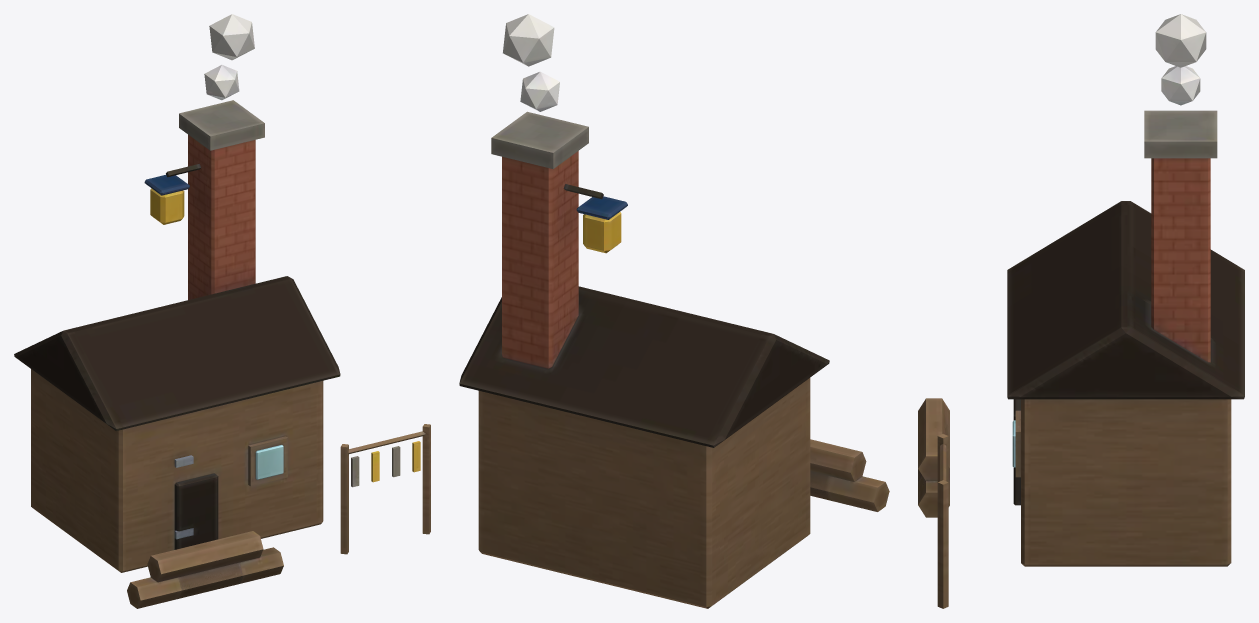
The model's file is smokehouse-3-age10.glb.
3 renders of one model, left to right at view 1: azimuth 30°, elevation 25°; view 2: azimuth 150°, elevation 25°; view 3: azimuth 270°, elevation 25°, orthographic. The views are drawn at different scales.
Parts seen in each view (by area): view 1: smokehouse-3-age10; view 2: smokehouse-3-age10; view 3: smokehouse-3-age10.
Boxes of the visible parts, x1=… form: smokehouse-3-age10: x1=14, y1=14, x2=430, y2=608; smokehouse-3-age10: x1=459, y1=14, x2=889, y2=608; smokehouse-3-age10: x1=918, y1=14, x2=1244, y2=608.
Size of the model in its own units: 0.882 by 1.31 by 0.715.
Materials: 1 (1 with a texture image).
